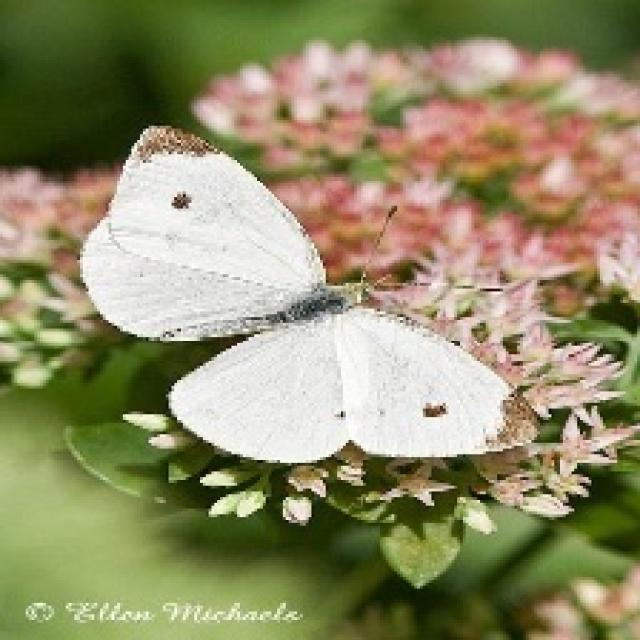butterfly: (77, 120, 532, 463)
